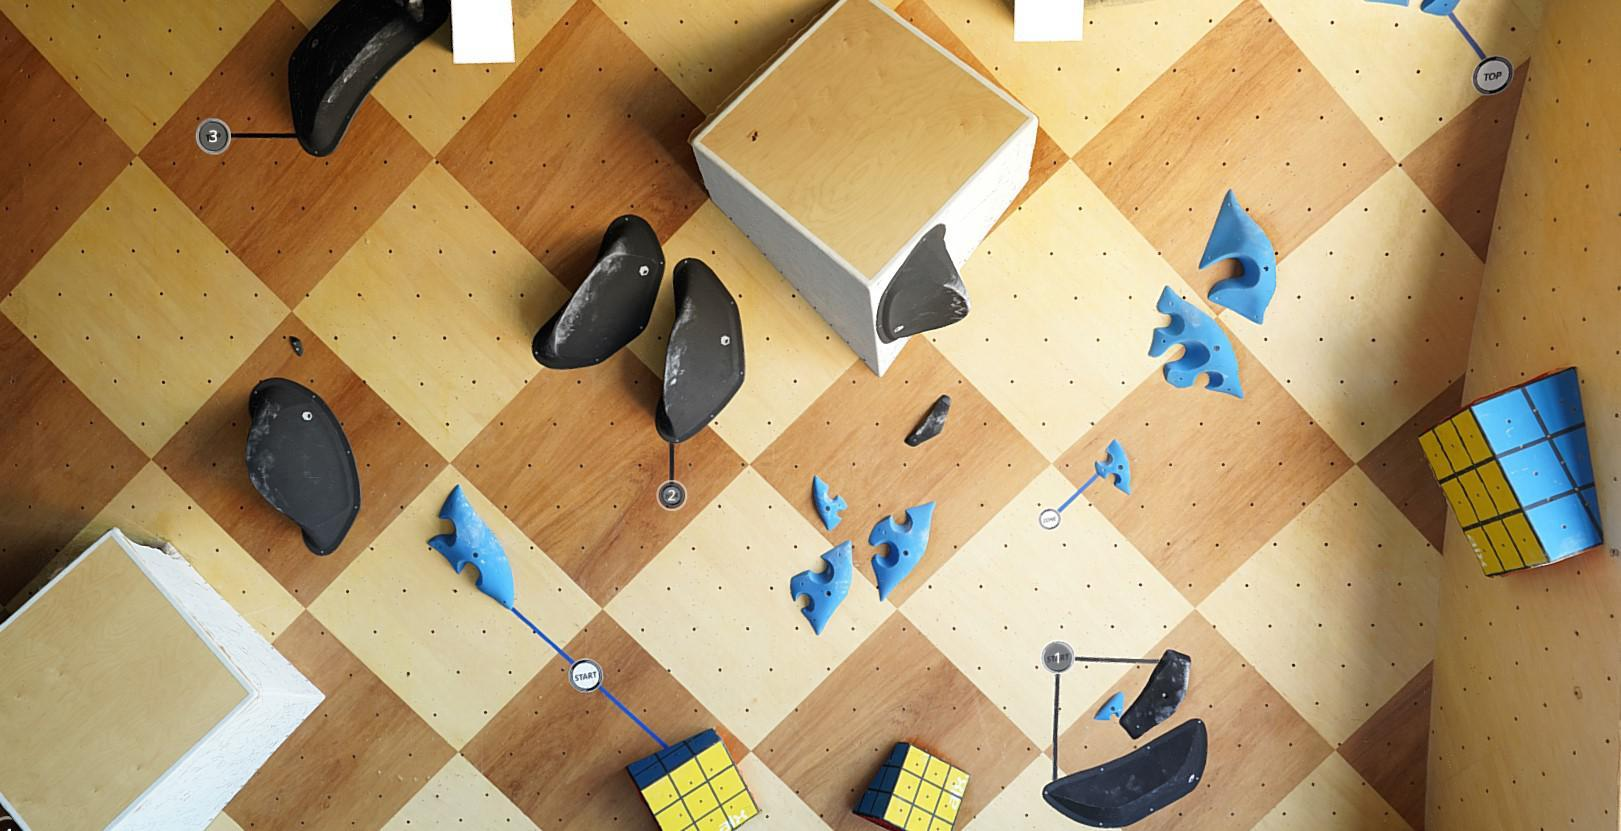hold: (691, 0, 1038, 376), (0, 527, 326, 831), (1418, 366, 1604, 578), (288, 0, 450, 157), (532, 214, 665, 369), (246, 377, 360, 555), (1043, 719, 1208, 829), (655, 259, 745, 444), (625, 728, 760, 831), (876, 225, 972, 343), (428, 483, 514, 611), (1148, 285, 1244, 399), (851, 742, 970, 831), (1199, 188, 1277, 324), (869, 500, 937, 601), (1120, 650, 1191, 739), (790, 538, 853, 636), (903, 394, 951, 446), (1095, 439, 1130, 496), (814, 475, 849, 531), (1093, 690, 1124, 720), (1420, 0, 1461, 16), (1364, 0, 1411, 6), (289, 335, 303, 356)
